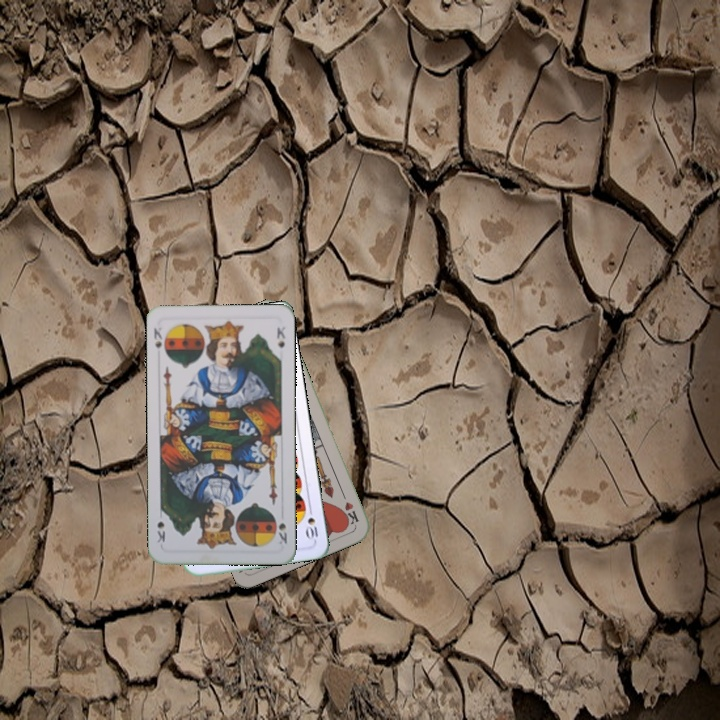HK: (337, 488, 361, 527)
S10: (302, 503, 321, 543)
SK: (149, 324, 165, 351), (274, 519, 289, 547)
